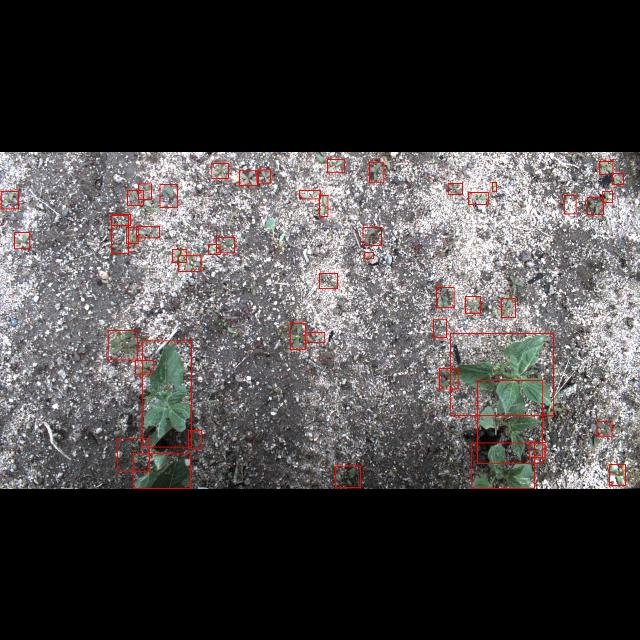crop: (451, 333, 554, 415), (477, 380, 543, 462), (142, 340, 192, 446), (472, 442, 534, 488), (134, 454, 190, 488)
weed: (118, 438, 150, 470), (108, 330, 138, 360), (112, 215, 128, 253), (336, 465, 360, 487), (160, 184, 178, 206), (439, 368, 458, 388), (290, 323, 304, 349), (362, 227, 382, 245), (436, 287, 454, 307), (178, 254, 200, 270), (609, 464, 625, 486), (368, 161, 384, 181), (319, 272, 337, 288), (500, 298, 516, 316), (216, 236, 234, 252), (587, 196, 603, 214), (2, 190, 18, 208), (136, 226, 160, 237), (212, 162, 228, 178), (596, 420, 612, 436), (188, 430, 202, 448), (239, 170, 257, 184), (135, 360, 153, 374), (434, 318, 446, 338), (468, 191, 488, 203), (15, 232, 30, 248), (564, 194, 576, 213), (328, 158, 344, 172), (529, 442, 545, 456), (466, 296, 480, 312), (138, 183, 152, 199), (127, 190, 143, 204), (112, 213, 130, 224), (172, 248, 186, 262), (126, 227, 138, 243), (599, 160, 613, 173), (307, 332, 325, 342), (320, 194, 328, 216), (448, 182, 462, 194), (258, 168, 270, 182), (300, 190, 320, 198), (612, 172, 624, 184), (208, 243, 220, 253), (602, 190, 612, 202), (364, 252, 374, 258), (492, 182, 496, 190)
